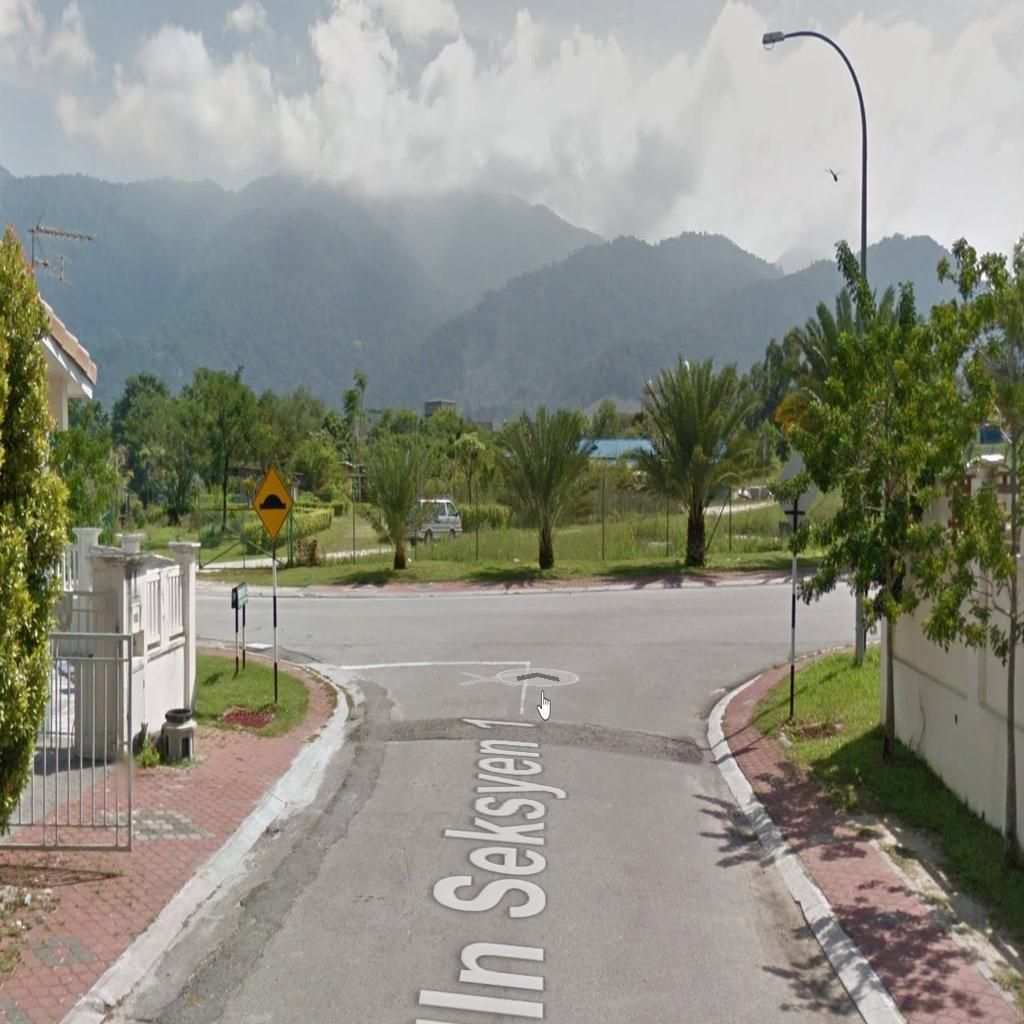Junction: (675, 565, 878, 736), (194, 561, 401, 716)
